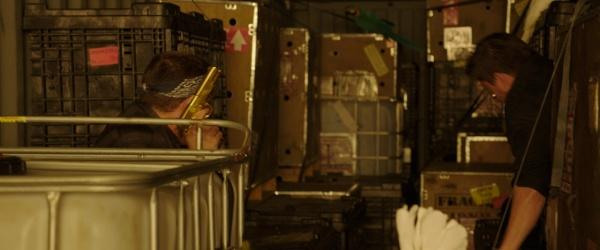Gun: (177, 64, 221, 134)
